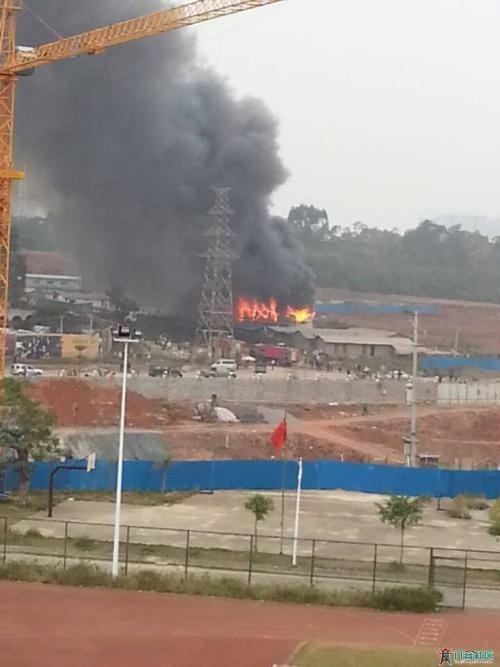fire: (236, 295, 315, 321)
